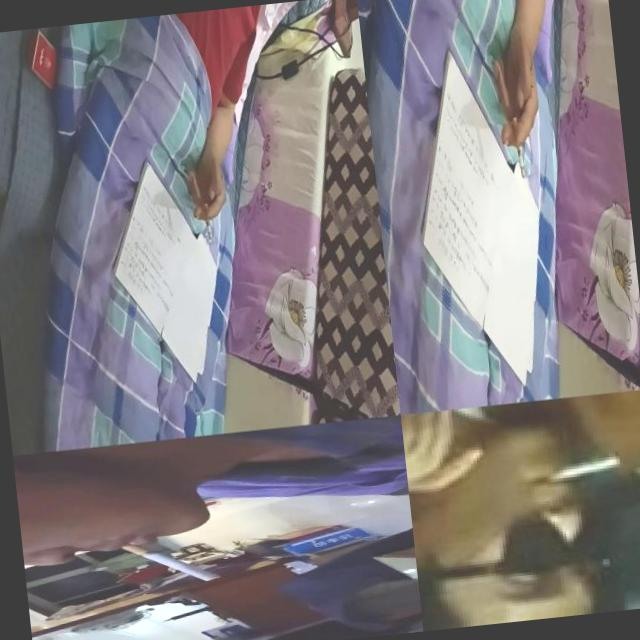cigarette: (120, 535, 222, 591), (534, 452, 624, 487), (511, 115, 525, 180), (202, 203, 212, 240)
